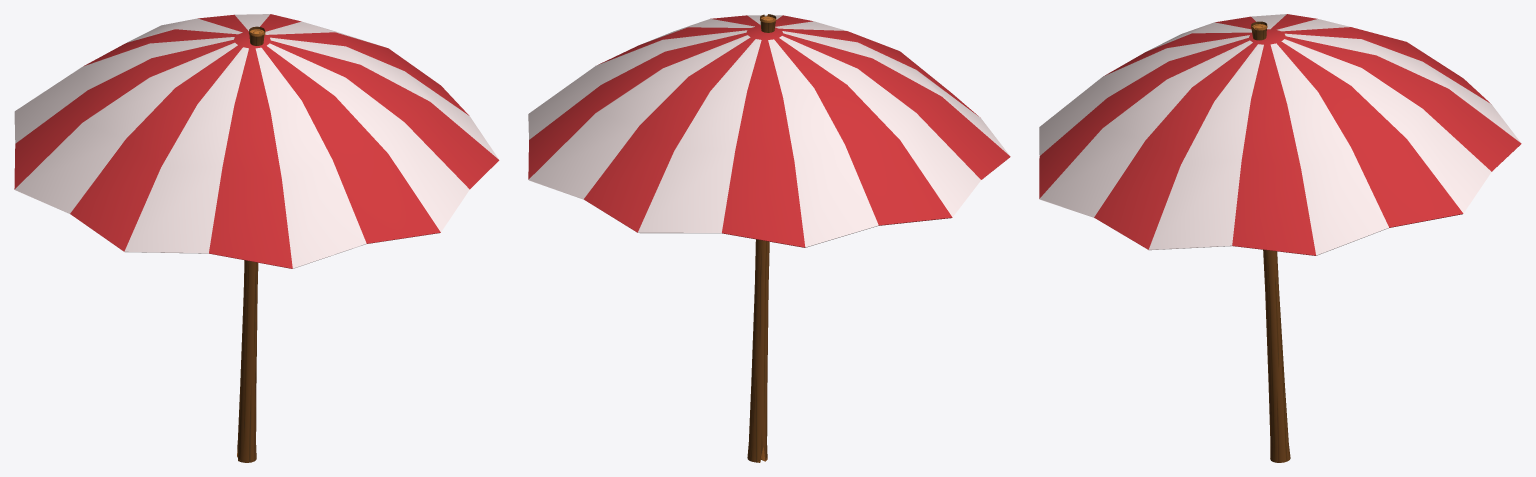
Rendered from 457 Festive Umbrella.fbx.
The picture shows the model from 3 angles, left to right: view 1: azimuth 30°, elevation 25°; view 2: azimuth 150°, elevation 25°; view 3: azimuth 270°, elevation 25°; orthographic projection.
Visible parts, largest first — view 1: Capsule (3), Capsule (2); view 2: Capsule (3), Capsule (2); view 3: Capsule (3), Capsule (2).
Boxes of the visible parts, box(x1,y1,x2,y2) form: Capsule (3): box(14, 14, 499, 268); Capsule (2): box(237, 26, 265, 462); Capsule (3): box(528, 15, 1010, 247); Capsule (2): box(747, 14, 776, 462); Capsule (3): box(1039, 14, 1521, 255); Capsule (2): box(1251, 21, 1290, 462).
Size of the model in its own units: 5.53 by 5.41 by 5.44.
2 materials, 2 textured.
